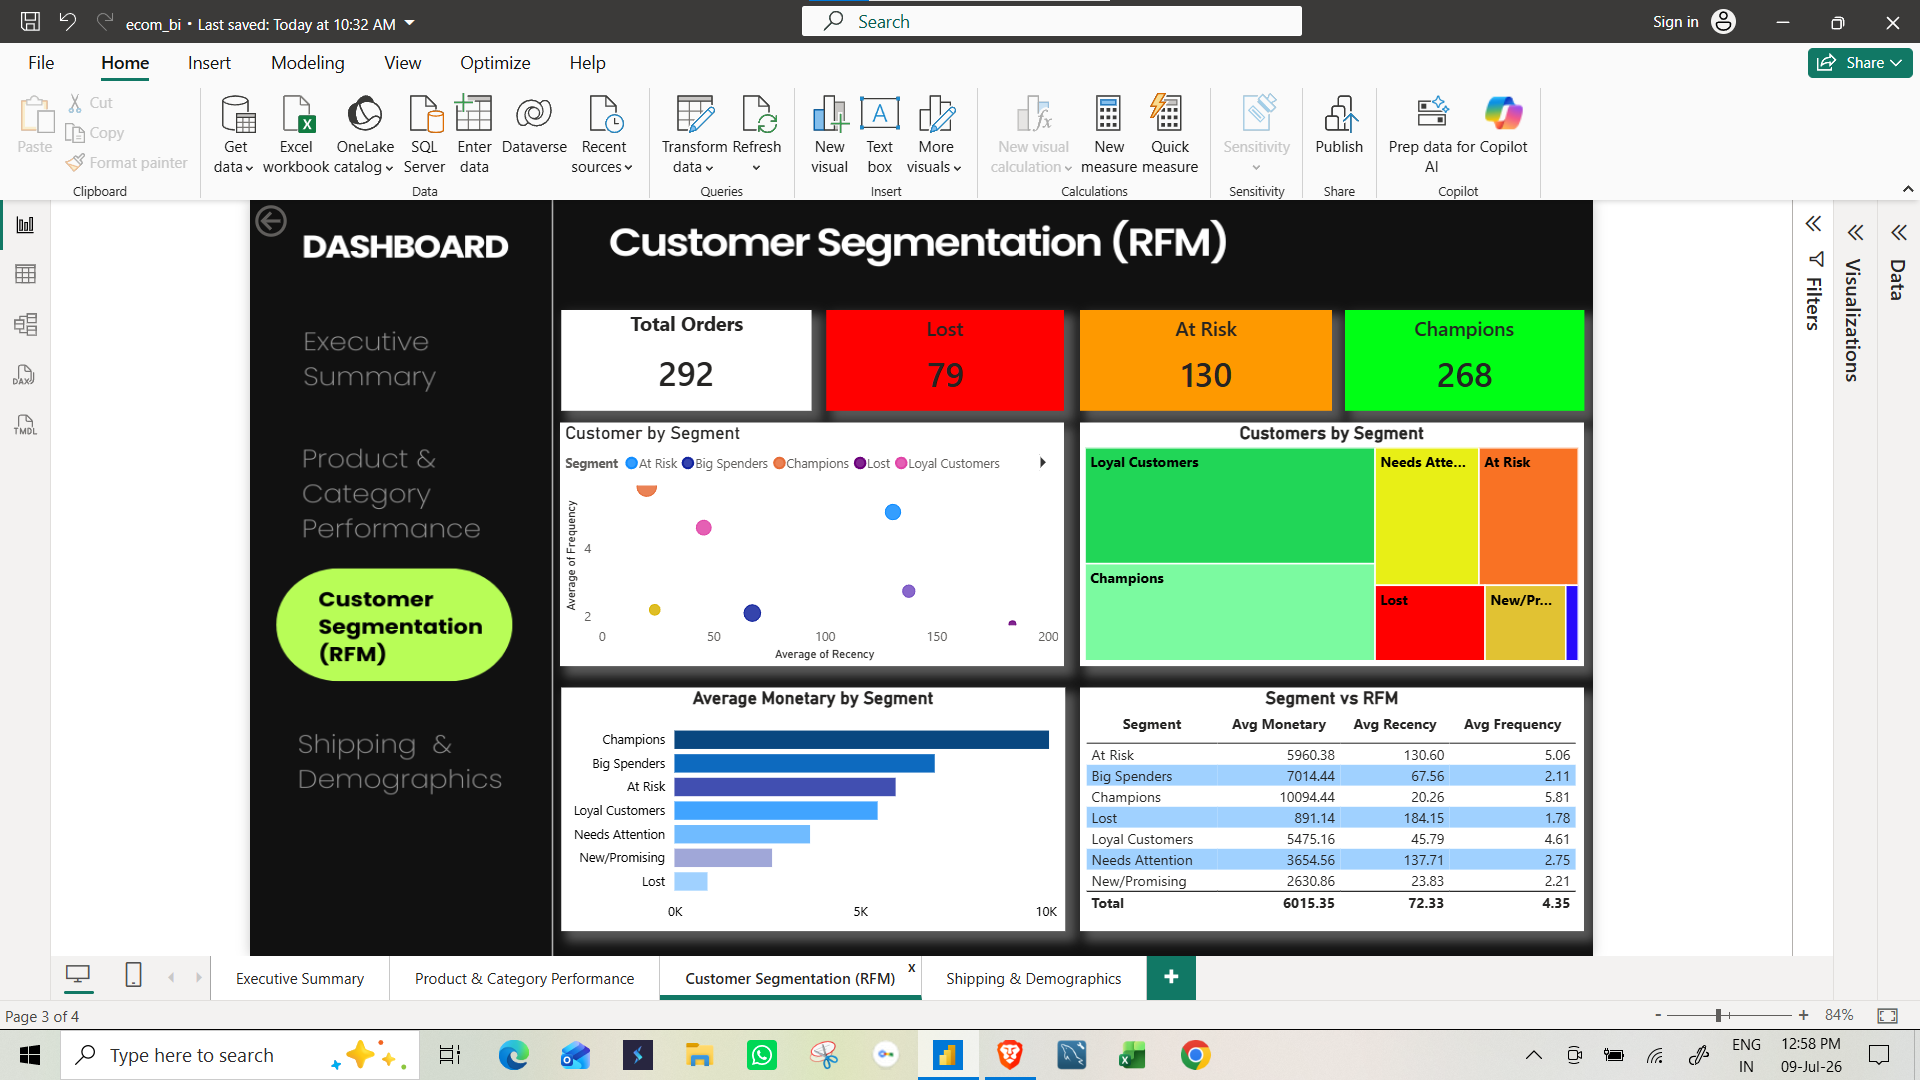

This screenshot's page, from the dashboard's own definition file:
{"tool":"powerbi","page":{"name":"Customer Segmentation (RFM)","canvas":[1280,720],"ordinal":2},"visuals":[{"type":"actionButton","box":[0,477.4,286.9,114.3],"z":0},{"type":"actionButton","box":[0,225,286.8,120.8],"z":1000},{"type":"actionButton","box":[0,104.3,286.8,107],"z":2000},{"type":"barChart","title":"Average Monetary by Segment","fields":{"Y":["Avg(clean_data.Monetary)"],"Category":["clean_data.Segment"]},"box":[296.4,464.3,479.8,232.1],"z":3000},{"type":"tableEx","title":"Segment vs RFM","fields":{"Values":["clean_data.Segment","Avg(clean_data.Monetary)","Avg(clean_data.Recency)","Avg(clean_data.Frequency)"]},"box":[790.5,464.3,479.8,232.1],"z":4000},{"type":"scatterChart","title":"Customer by Segment","fields":{"Y":["Avg(clean_data.Frequency)"],"X":["clean_data.Recency"],"Size":["Avg(clean_data.Monetary)"],"Series":["clean_data.Segment"]},"box":[295.2,211.9,479.8,232.1],"z":5000},{"type":"treemap","title":"Customers by Segment","fields":{"Group":["clean_data.Segment"],"Values":["CountNonNull(clean_data.Customer ID)"]},"box":[790.5,211.9,479.8,232.1],"z":6000},{"type":"cardVisual","title":"Total Orders","fields":{"Data":["clean_data.Unique Customers"]},"box":[296.4,104.3,238.8,96.1],"z":7000},{"type":"actionButton","box":[0,0,100,40],"z":8000},{"type":"cardVisual","title":"Total Orders","fields":{"Data":["CountNonNull(clean_data.Customer ID)"],"Rows":["clean_data.Segment"]},"box":[548.9,104.3,226.4,96.1],"z":9000},{"type":"cardVisual","title":"Total Orders","fields":{"Data":["CountNonNull(clean_data.Customer ID)"],"Rows":["clean_data.Segment"]},"box":[790.4,104.3,240.1,96.1],"z":10000},{"type":"cardVisual","title":"Total Orders","fields":{"Data":["CountNonNull(clean_data.Customer ID)"],"Rows":["clean_data.Segment"]},"box":[1042.9,104.3,227.8,96.1],"z":11000}]}

Visuals, with their boxes on the page's 1280x720 design canvas (x1, y1, x2, y2). These are canvas units, not pixel positions in the 1920x1080 screenshot, which may show the page scaled, cropped or inside an application window:
actionButton: locate(0, 477, 287, 592)
actionButton: locate(0, 225, 287, 346)
actionButton: locate(0, 104, 287, 211)
"Average Monetary by Segment" barChart: locate(296, 464, 776, 696)
"Segment vs RFM" tableEx: locate(790, 464, 1270, 696)
"Customer by Segment" scatterChart: locate(295, 212, 775, 444)
"Customers by Segment" treemap: locate(790, 212, 1270, 444)
"Total Orders" cardVisual: locate(296, 104, 535, 200)
actionButton: locate(0, 0, 100, 40)
"Total Orders" cardVisual: locate(549, 104, 775, 200)
"Total Orders" cardVisual: locate(790, 104, 1030, 200)
"Total Orders" cardVisual: locate(1043, 104, 1271, 200)
